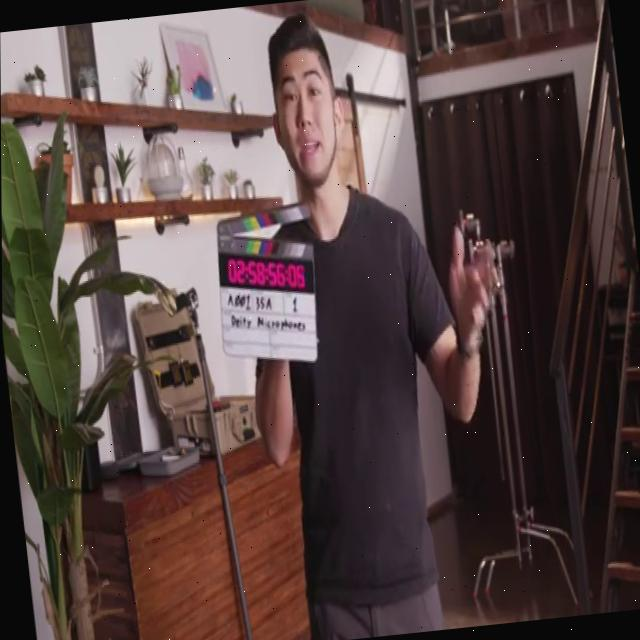Clapperboard: (206, 201, 325, 374)
